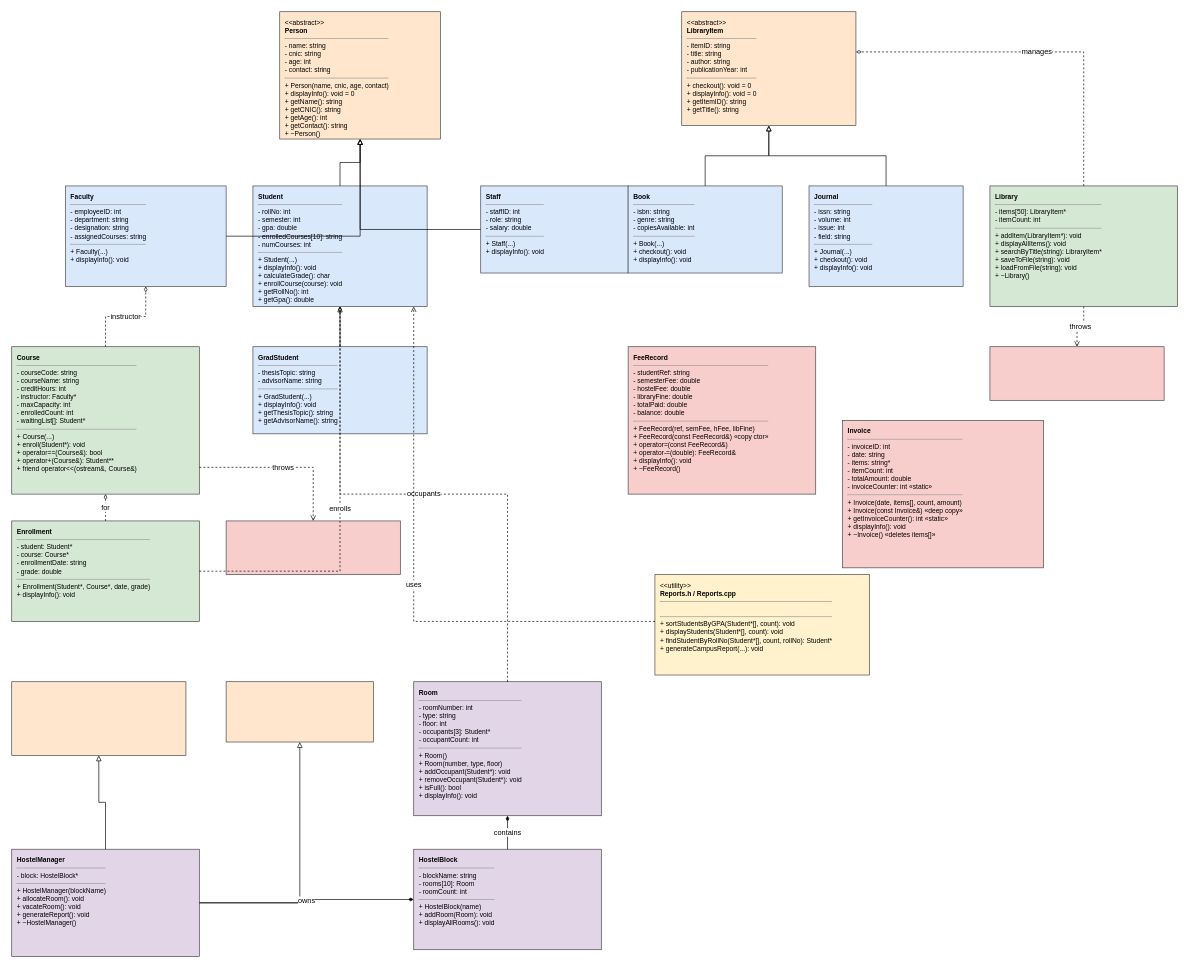
Image size: 1189x968. Some labels were removed from this diagram. Here are the shapes that lost their labels. From the top down, the box of each, then its label:
(989, 346, 1164, 400): OverdueException + what(): const char*
(225, 520, 400, 575): CapacityExceededException + what(): const char*
(11, 681, 186, 755): <<interface>> Accomodation + allocateRoom(): void = 0 + vacateRoom(): void = 0
(225, 681, 374, 742): <<interface>> Reportable + generateReport(): void = 0
